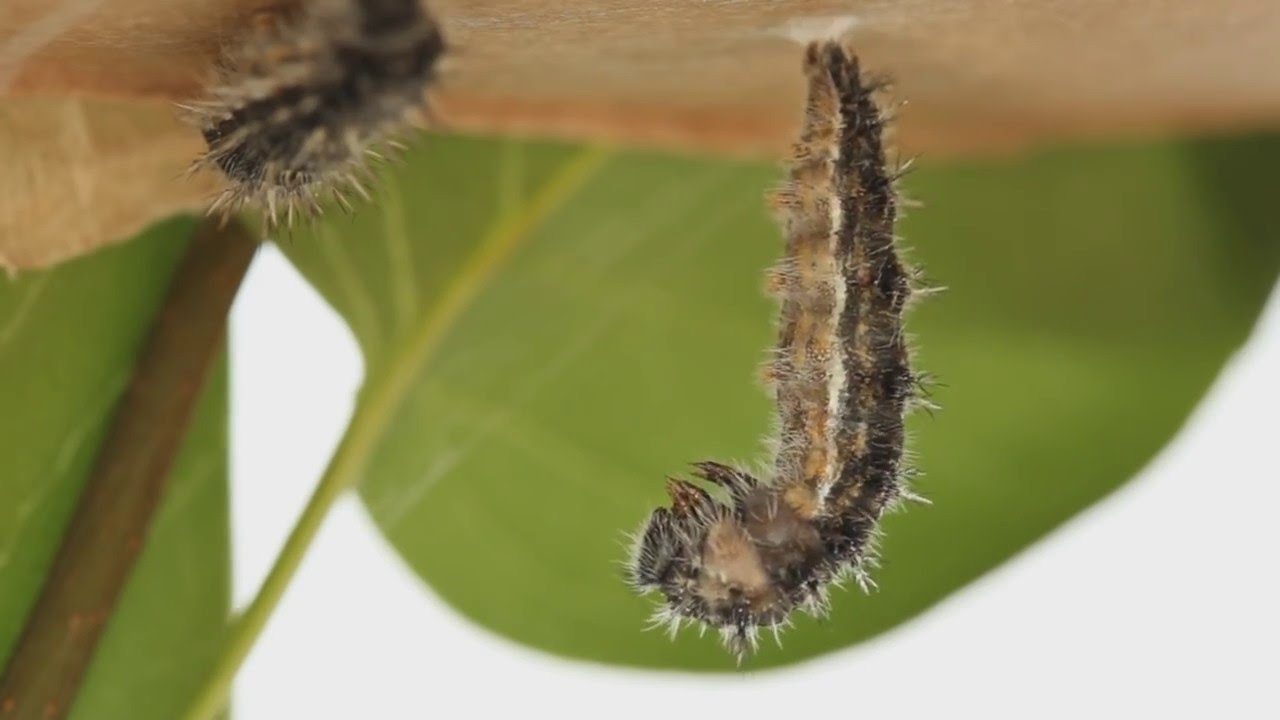Caterpillar: (628, 37, 932, 663), (187, 1, 453, 239)
